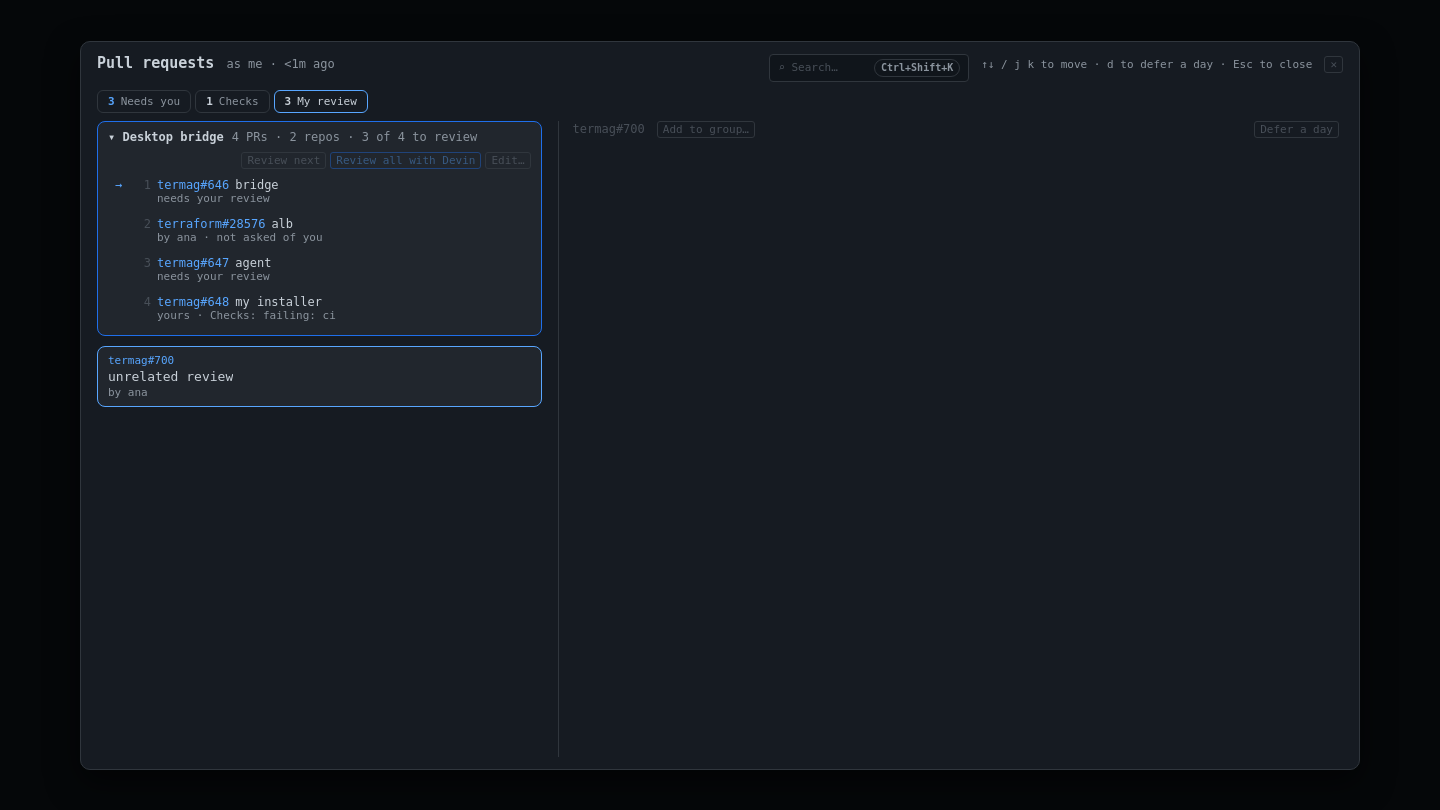
Test: PrsOverlay review groups › picks a member no lane lists, so it opens in the detail pane
Click the option "2 terraform#28576 alb by ana · not asked of you" at {"x": 319, "y": 230}, box x1=108 y1=212 x2=530 y2=248
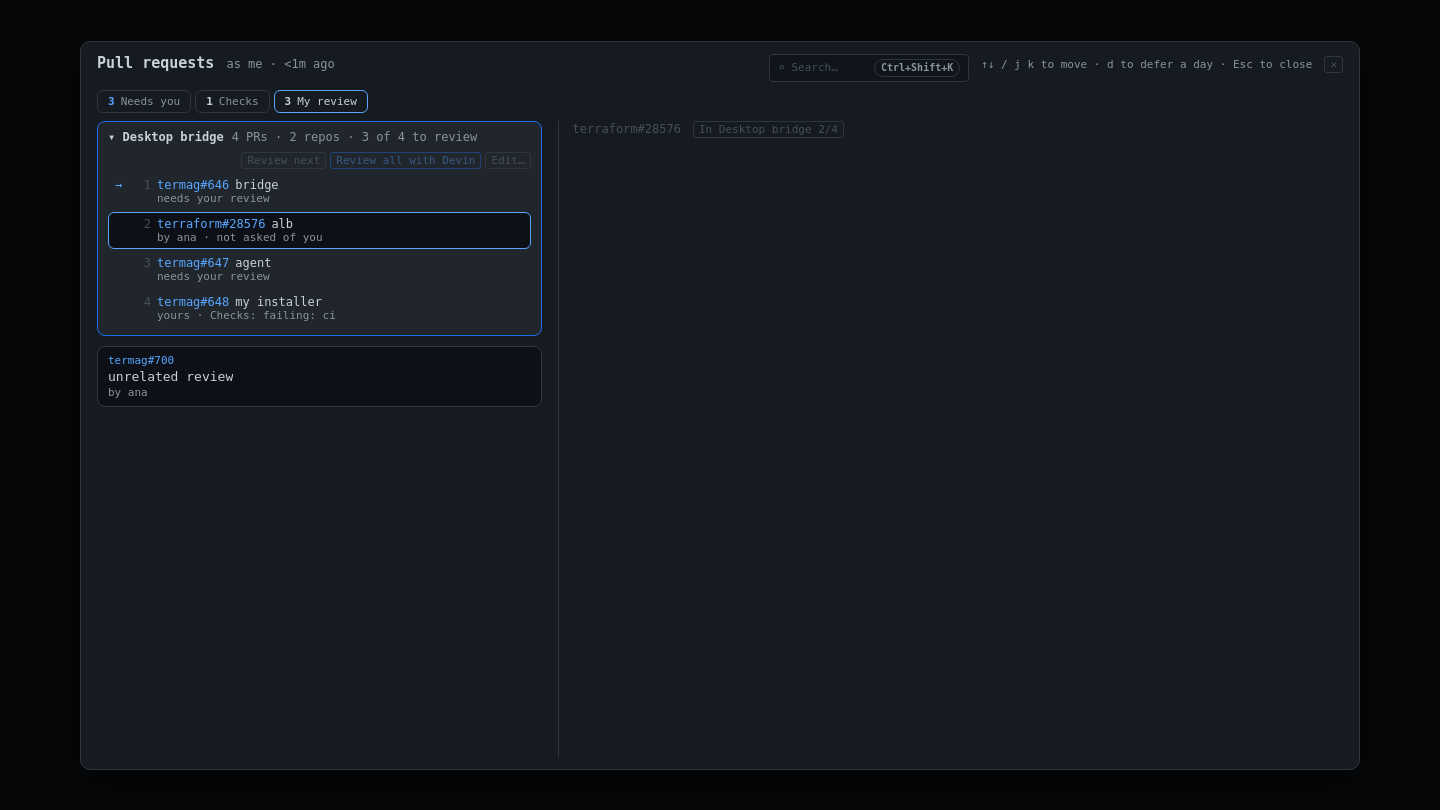
Result: the 1st text "terraform#28576" is shown at x1=572 y1=122 x2=681 y2=136
